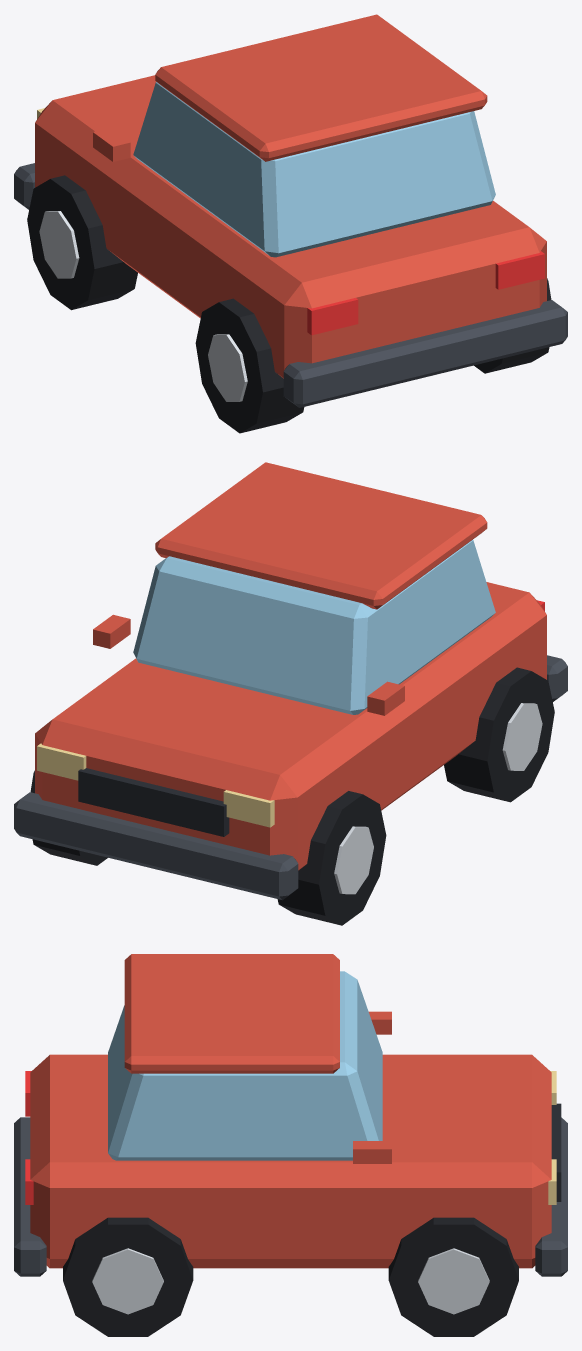
The model's file is hatchback.glb.
3 views of the same model, one above another, from view 1: azimuth 30°, elevation 25°; view 2: azimuth 150°, elevation 25°; view 3: azimuth 270°, elevation 25° (orthographic). The views are drawn at different scales.
Visible parts, largest first — view 1: Body, Wheel_0L, Wheel_1L, Wheel_1R; view 2: Body, Wheel_1L, Wheel_0L, Wheel_0R; view 3: Body, Wheel_0R, Wheel_1R.
Part boxes in pixels (bbox=[...]): Body: bbox=[14, 14, 567, 407]; Wheel_0L: bbox=[27, 175, 137, 310]; Wheel_1L: bbox=[195, 298, 304, 433]; Wheel_1R: bbox=[474, 278, 551, 373]; Body: bbox=[14, 462, 567, 900]; Wheel_1L: bbox=[444, 667, 554, 802]; Wheel_0L: bbox=[277, 791, 386, 925]; Wheel_0R: bbox=[30, 770, 107, 865]; Body: bbox=[14, 954, 567, 1276]; Wheel_0R: bbox=[388, 1217, 518, 1336]; Wheel_1R: bbox=[63, 1217, 193, 1336].
Size of the model in its own units: 1.02 by 0.8902 by 1.7.
Materials: 1 (1 with a texture image).
